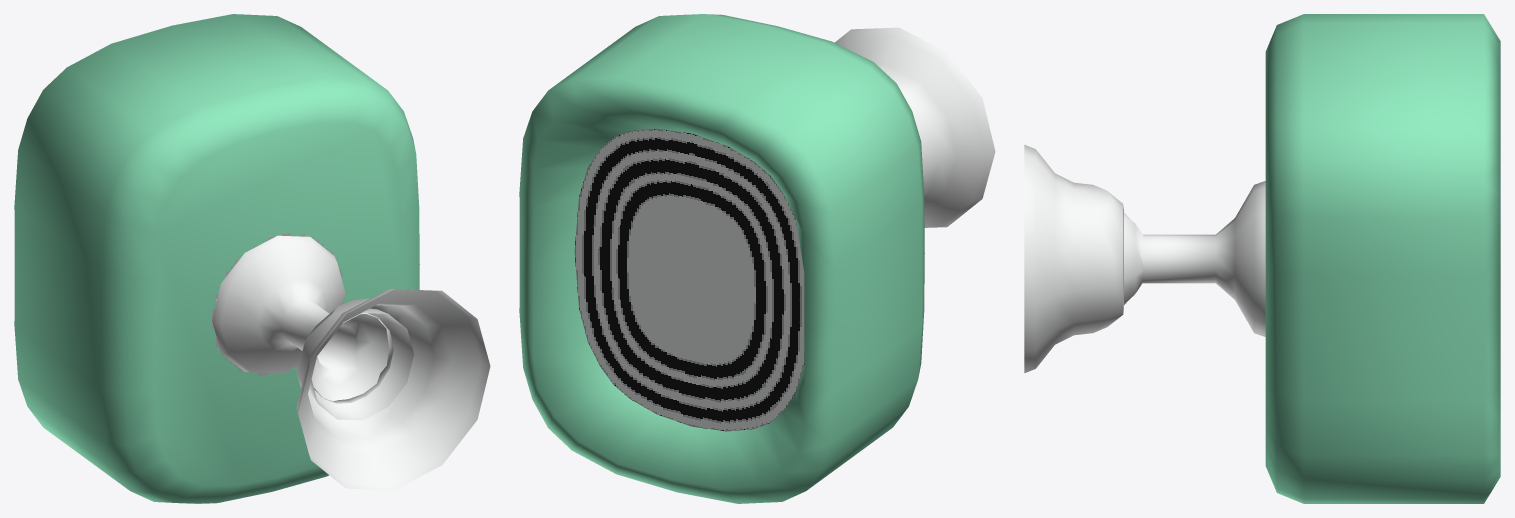
The model's file is Speaker.glb.
3 views of the same model, side by side, from view 1: azimuth 30°, elevation 25°; view 2: azimuth 150°, elevation 25°; view 3: azimuth 270°, elevation 25° (orthographic). The views are drawn at different scales.
Parts seen in each view (by area): view 1: Speaker, Holder; view 2: Speaker, Holder; view 3: Speaker, Holder.
Part boxes in pixels (box(x1,y1,x2,y2)): Speaker: box(14, 14, 419, 503); Holder: box(296, 289, 490, 490); Speaker: box(519, 14, 924, 503); Holder: box(834, 27, 995, 227); Speaker: box(1124, 14, 1500, 503); Holder: box(1024, 144, 1123, 373).
Bounding box in the file's own units: 1.23 × 1.5 × 1.55.
1 material, 1 textured.
